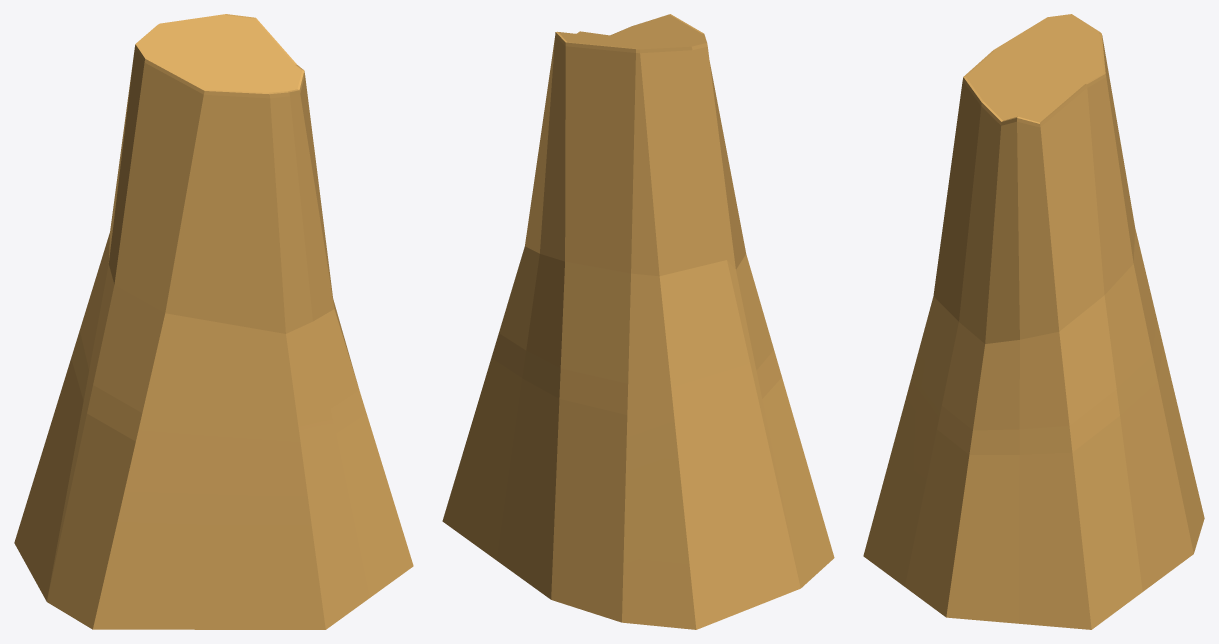
Rendered from stone_1.fbx.
3 renders of one model, left to right at view 1: azimuth 30°, elevation 25°; view 2: azimuth 150°, elevation 25°; view 3: azimuth 270°, elevation 25°, orthographic. The views are drawn at different scales.
Visible parts, largest first — view 1: Plane.042; view 2: Plane.042; view 3: Plane.042.
Part boxes in pixels (box(x1,y1,x2,y2)): Plane.042: box(14, 14, 413, 629); Plane.042: box(442, 14, 834, 629); Plane.042: box(863, 14, 1204, 629).
Size of the model in its own units: 2903 by 4316 by 2649.
